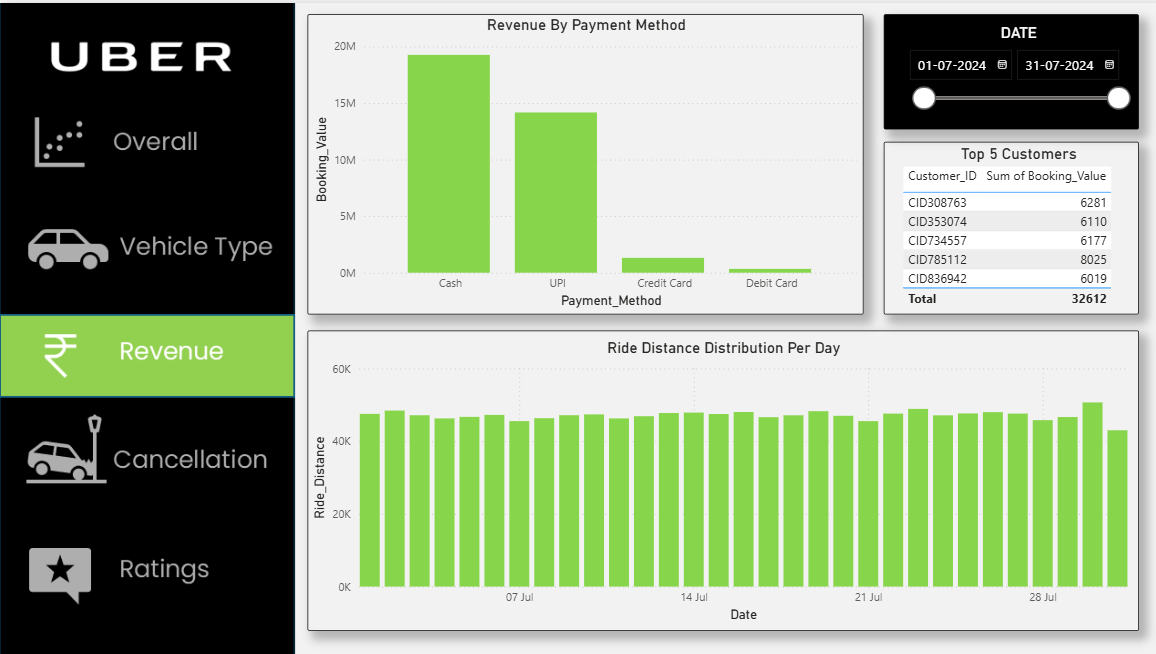

The page's visual inventory and layout, read from the dashboard file:
{"tool":"powerbi","page":{"name":"Revenue","canvas":[1280,720],"ordinal":2},"visuals":[{"type":"actionButton","box":[0,106.7,322.7,92],"z":0},{"type":"actionButton","box":[0,222.1,322.7,92],"z":1000},{"type":"actionButton","box":[0,451.5,322.7,90.8],"z":2000},{"type":"actionButton","box":[0,579.1,322.7,93.3],"z":3000},{"type":"columnChart","title":"Revenue By Payment Method","fields":{"Category":["July.Payment_Method"],"Y":["Sum(July.Booking_Value)"]},"box":[337.6,12.3,610.6,329.3],"z":4000},{"type":"columnChart","title":"Ride Distance Distribution Per Day","fields":{"Category":["July.Date"],"Y":["Sum(July.Ride_Distance)"]},"box":[337.6,359.5,912.5,329.3],"z":5000},{"type":"slicer","title":"DATE","fields":{"Values":["July.Date"]},"box":[970.2,12.3,279.9,126.2],"z":6000},{"type":"tableEx","title":"Top 5 Customers ","fields":{"Values":["July.Customer_ID","Sum(July.Booking_Value)"]},"box":[970.2,152.3,279.9,189.4],"z":7000}]}

Visuals, with their boxes in screenshot pixels (x1, y1, x2, y2), scaled from the page's 1280x720 canvas onto the 1156x654 screenshot:
actionButton: box=[0, 97, 291, 180]
actionButton: box=[0, 202, 291, 285]
actionButton: box=[0, 410, 291, 493]
actionButton: box=[0, 526, 291, 611]
"Revenue By Payment Method" columnChart: box=[305, 11, 856, 310]
"Ride Distance Distribution Per Day" columnChart: box=[305, 327, 1129, 626]
"DATE" slicer: box=[876, 11, 1129, 126]
"Top 5 Customers " tableEx: box=[876, 138, 1129, 310]
